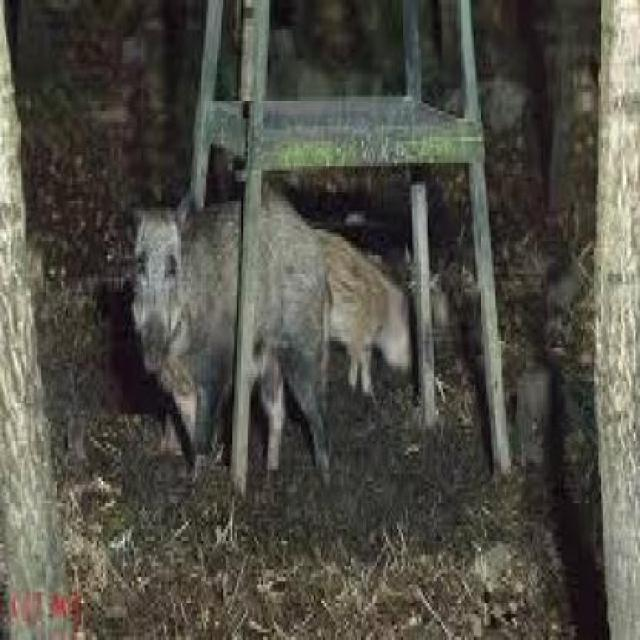Wild Boar: (122, 182, 333, 496), (285, 220, 413, 414)
